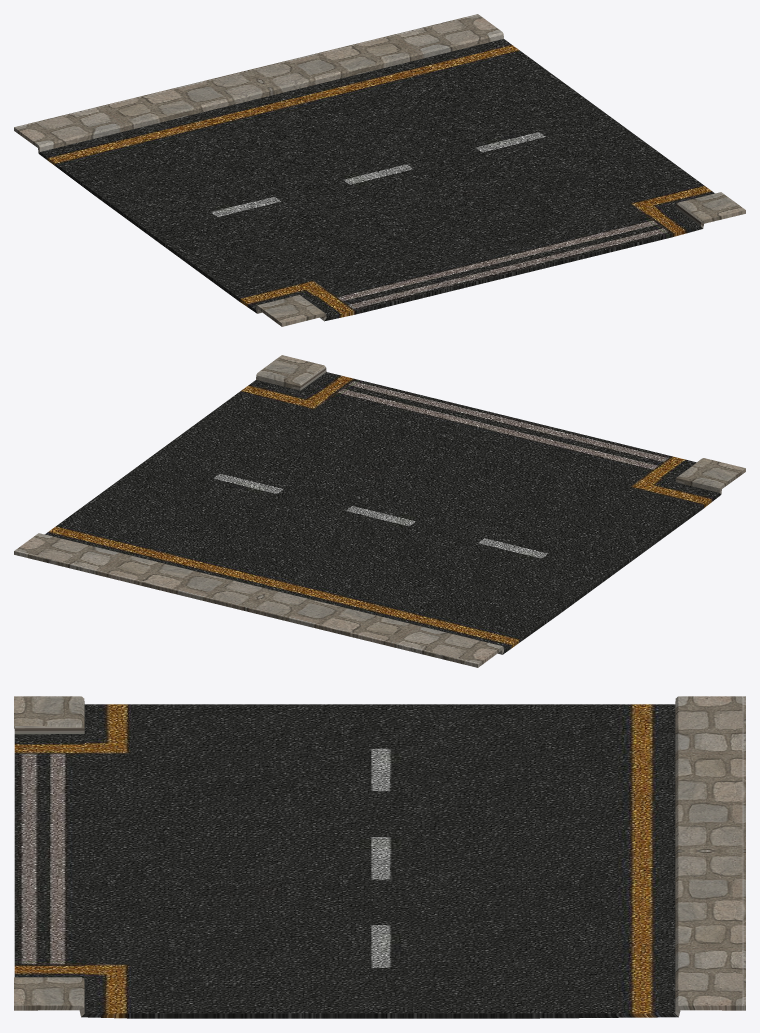
File: modular-city-road-pack-game-ready-4in-2-003-2.glb
3 views of the same model, one above another, from view 1: azimuth 30°, elevation 25°; view 2: azimuth 150°, elevation 25°; view 3: azimuth 270°, elevation 25° (orthographic). The views are drawn at different scales.
Visible parts, largest first — view 1: 4in 2.003_2; view 2: 4in 2.003_2; view 3: 4in 2.003_2.
Part boxes in pixels (x1=…): 4in 2.003_2: x1=14, y1=14, x2=745, y2=326; 4in 2.003_2: x1=14, y1=355, x2=745, y2=667; 4in 2.003_2: x1=14, y1=696, x2=745, y2=1018.
Size of the model in its own units: 2.7 by 0.0526 by 2.71.
2 materials, 2 textured.
